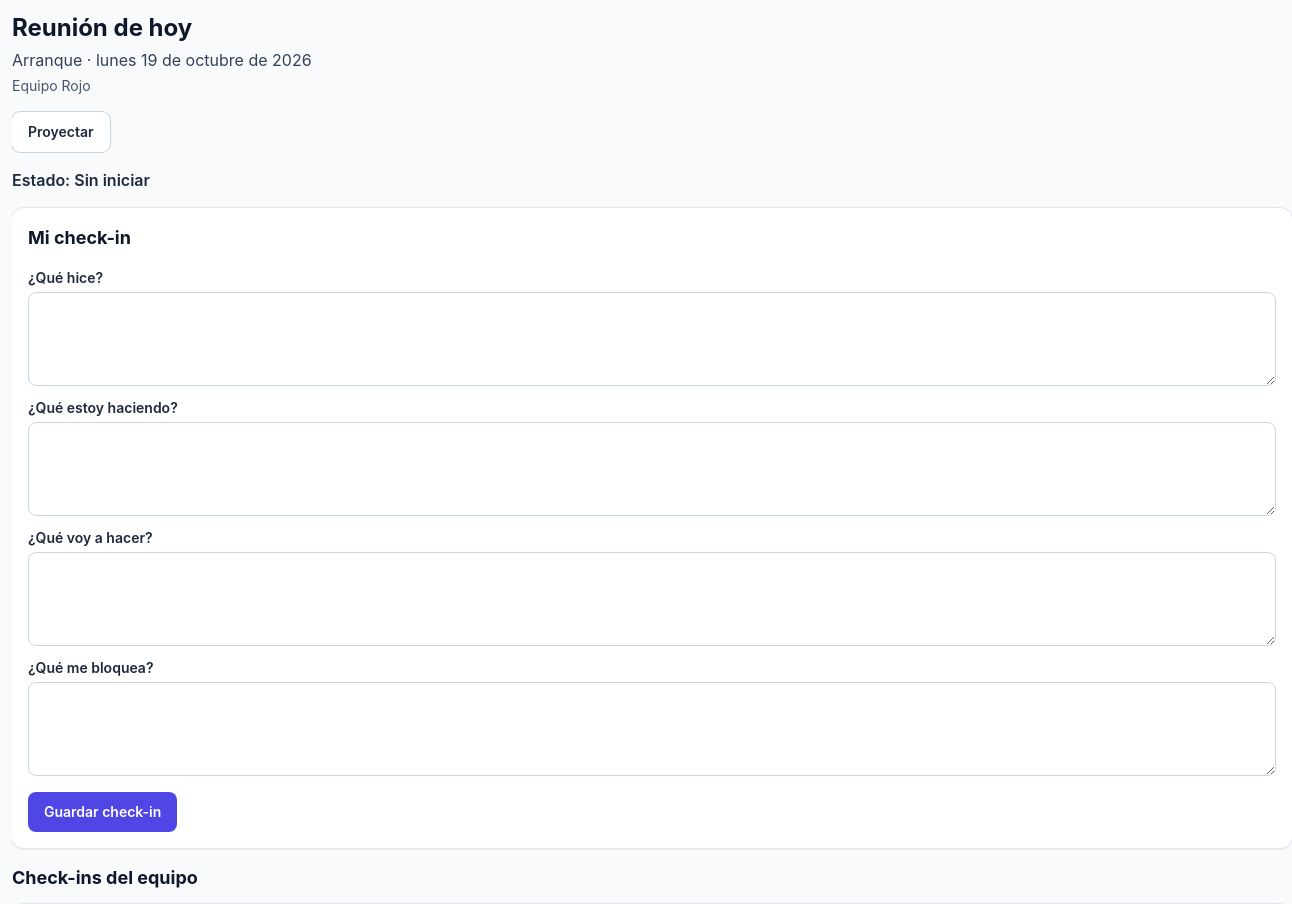
Test: own check-in form › reuses the same id when a failed save is retried
Type "Algo" into the text box labelled "¿Qué estoy haciendo?" at (652, 469), box [28,422,1276,516]
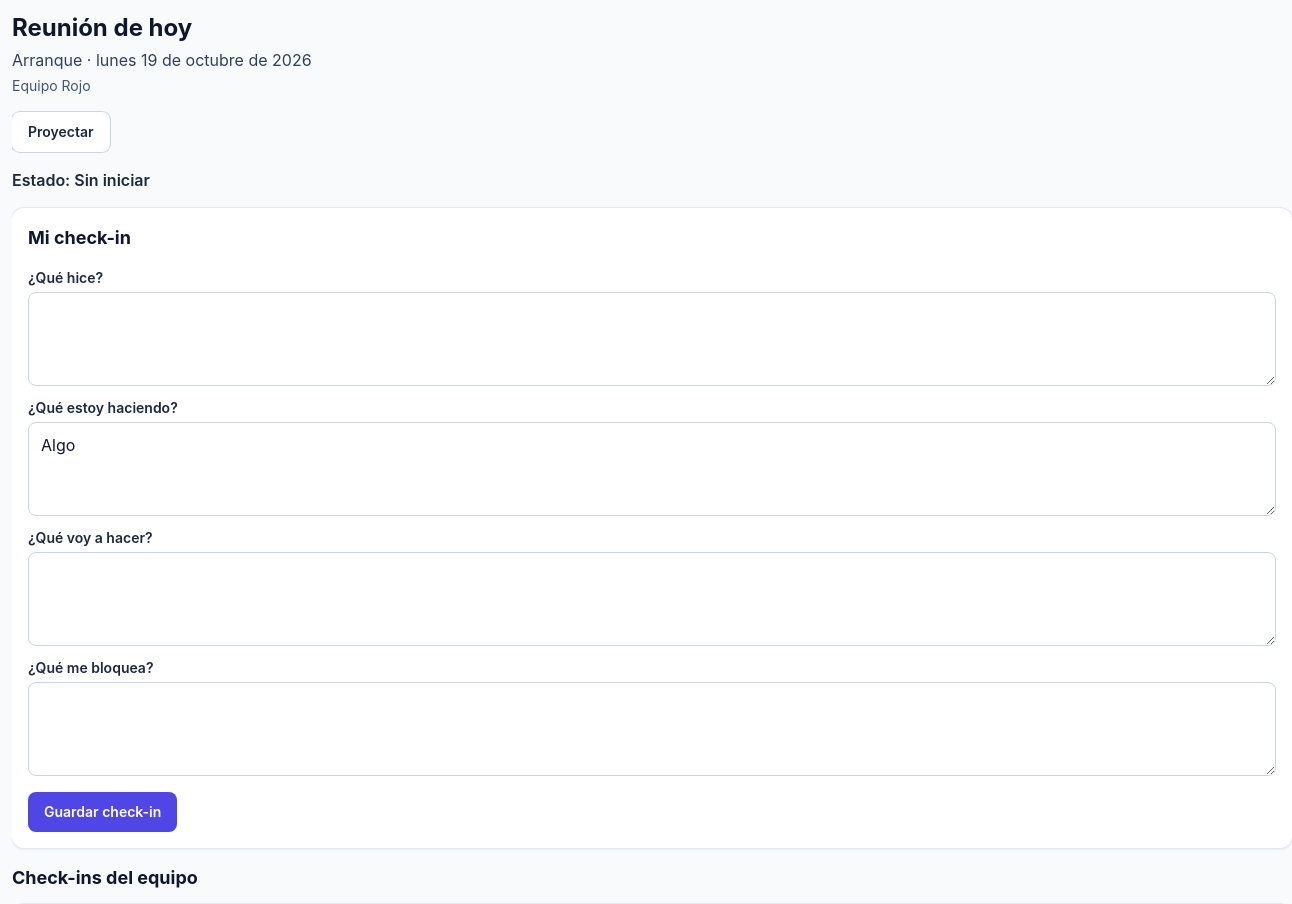
Click the button "Guardar check-in" at (103, 812), box [28,792,177,832]
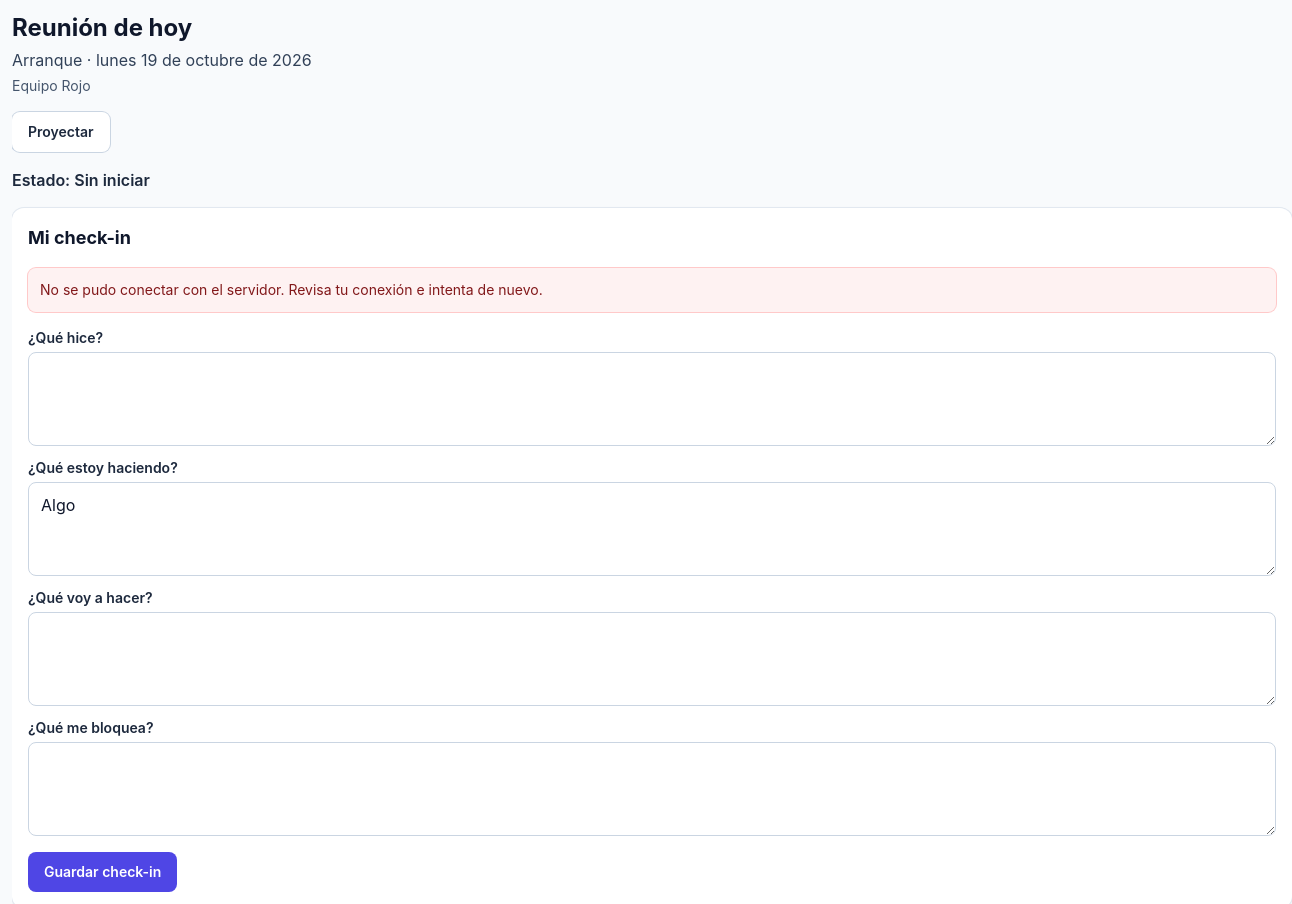
Expected: the message shows "No se pudo conectar con el servidor", [40,281,543,298]
Click the button "Guardar check-in" at (103, 872), box [28,852,177,892]
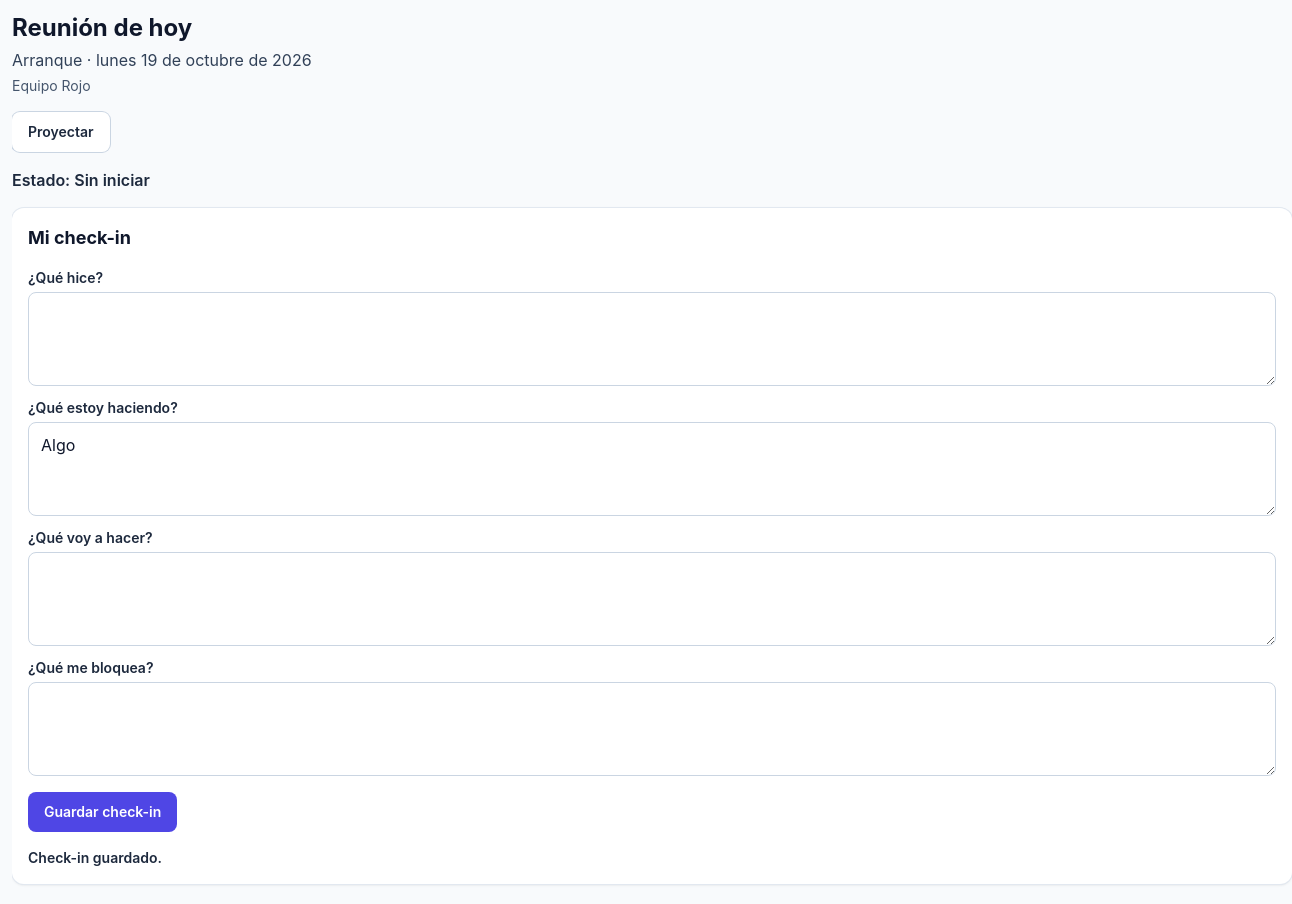
Expected: the text "Check-in guardado." is shown, [28,849,162,866]
